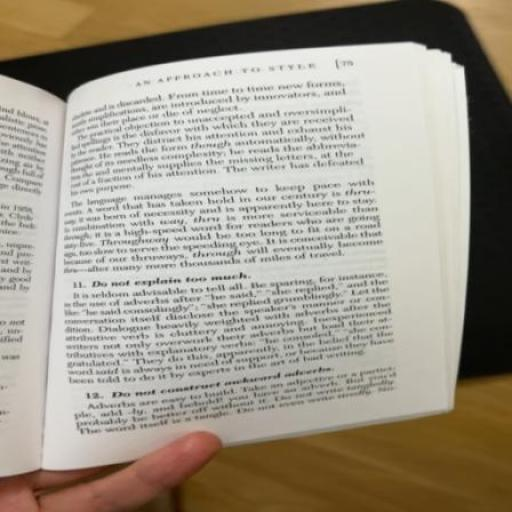paper: (43, 65, 512, 438)
